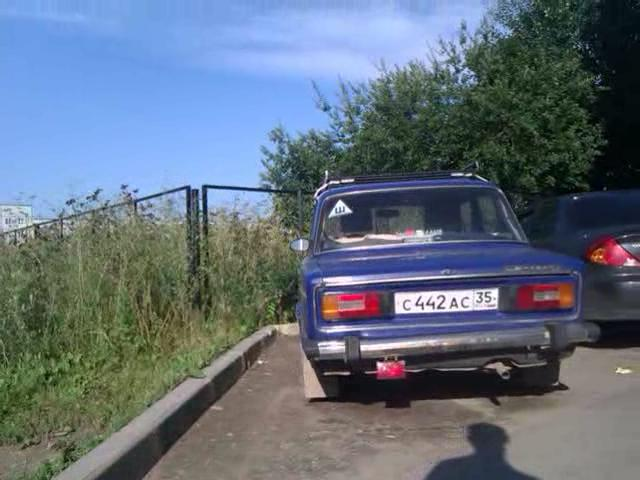car license plate: (392, 284, 502, 320)
